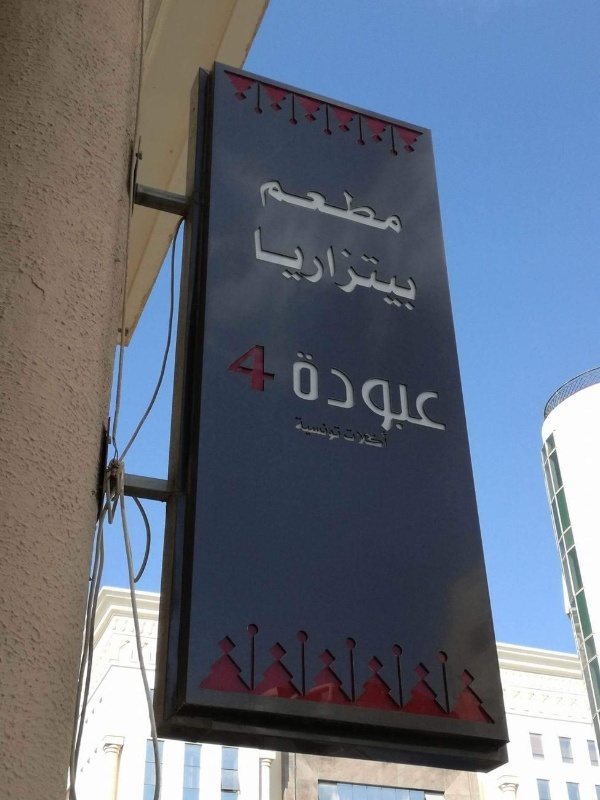text: (305, 349, 320, 446), (321, 349, 336, 446), (337, 349, 352, 446), (353, 349, 368, 446), (369, 349, 384, 446), (385, 349, 400, 446), (401, 349, 416, 446), (417, 349, 432, 446), (433, 349, 448, 446), (257, 223, 272, 316), (273, 223, 288, 316), (289, 223, 304, 316), (305, 223, 320, 316), (321, 223, 336, 316), (337, 223, 352, 316), (353, 223, 368, 316), (369, 223, 384, 316), (385, 223, 400, 316), (401, 223, 416, 316), (292, 349, 304, 446), (257, 170, 272, 237), (273, 170, 288, 237), (289, 170, 304, 237), (305, 170, 320, 237), (321, 170, 336, 237), (337, 170, 352, 237), (353, 170, 368, 237), (369, 170, 384, 237), (385, 170, 400, 237), (241, 336, 256, 396), (257, 336, 272, 396), (273, 336, 281, 396), (233, 336, 240, 396), (305, 417, 320, 442), (321, 417, 336, 442), (353, 428, 368, 450), (369, 428, 384, 450), (253, 223, 256, 316), (401, 170, 405, 237), (295, 417, 304, 442), (345, 428, 352, 450), (337, 417, 341, 442), (417, 223, 418, 316), (385, 428, 388, 450)
